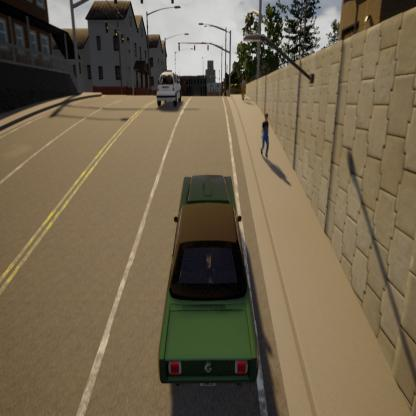Cars: (145, 144, 270, 416), (146, 57, 192, 125)
Pedestrian: (251, 99, 278, 183)
